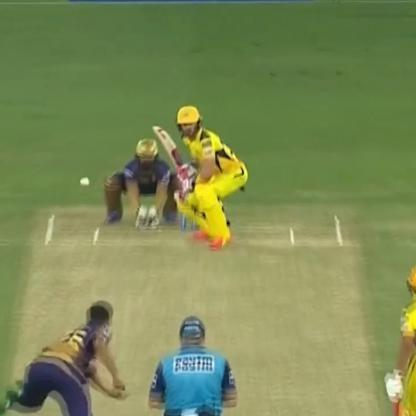ball: (72, 165, 96, 189)
bat: (151, 117, 192, 193), (383, 366, 400, 416)
pitch: (6, 199, 377, 416)
